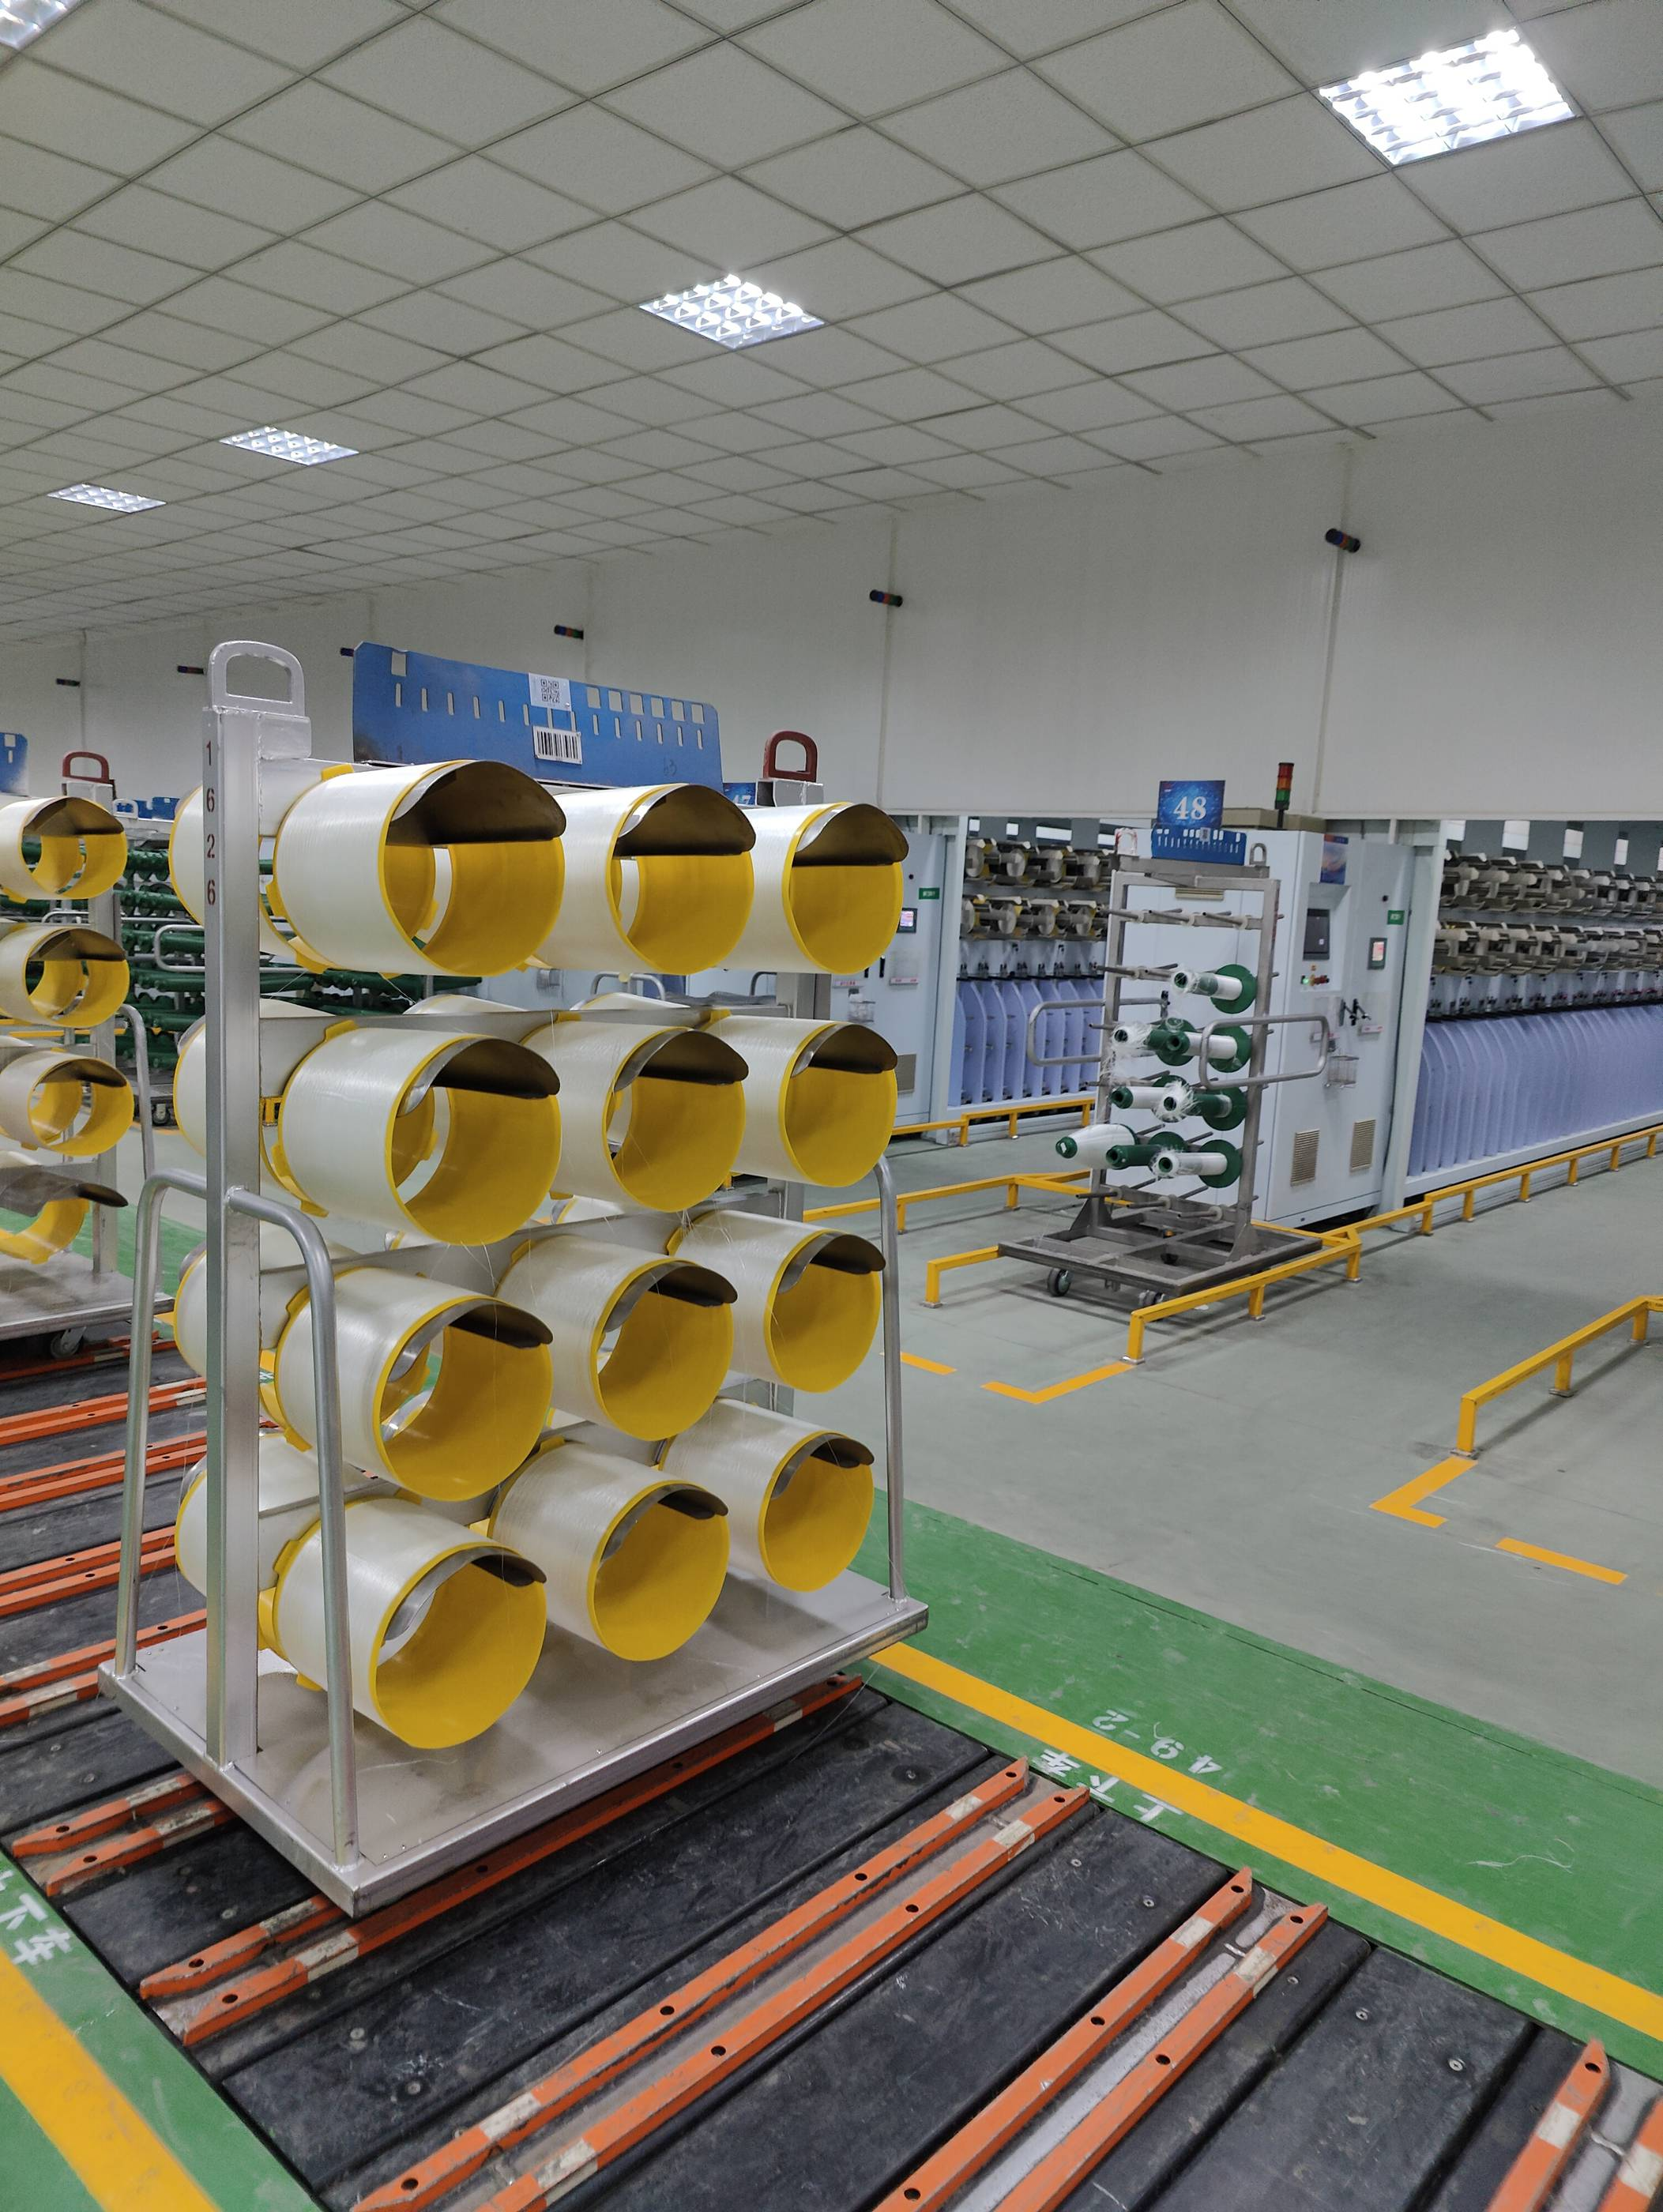b1: (119, 622, 910, 1946)
